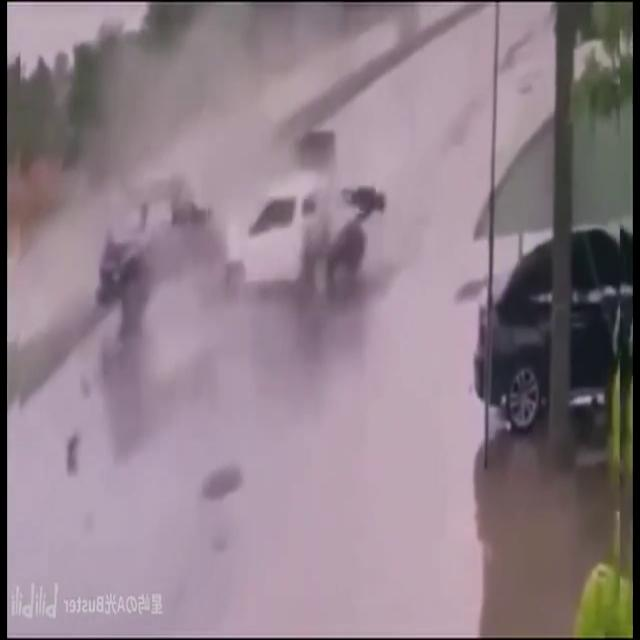accident: (93, 126, 391, 344)
